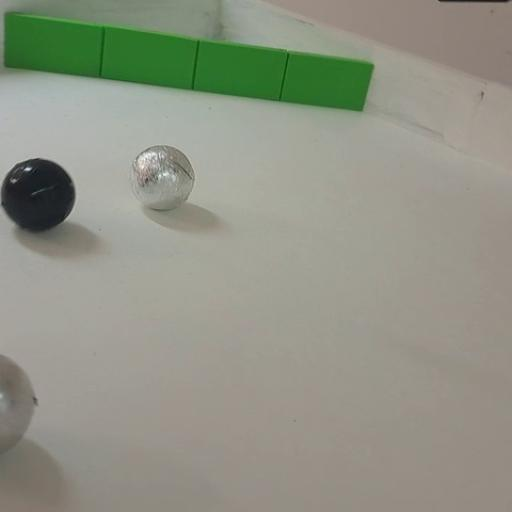alive: (129, 144, 196, 209), (0, 346, 38, 456)
dead: (0, 156, 78, 232)
